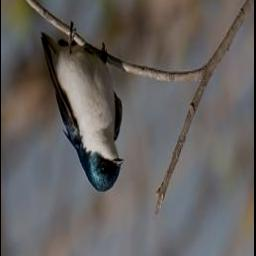Swallow: (40, 20, 123, 194)
